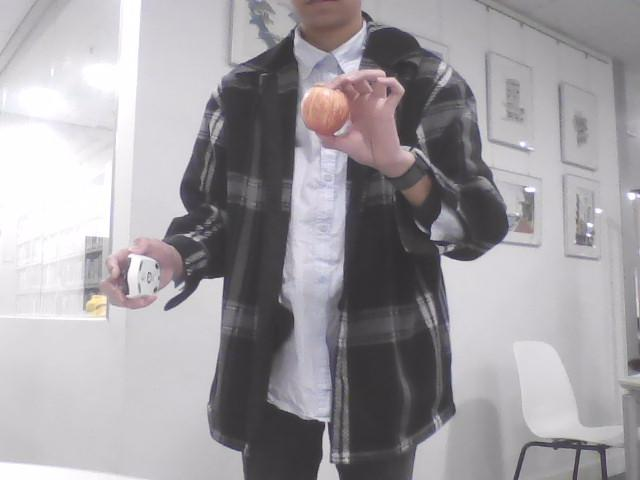apple: (301, 86, 349, 133)
